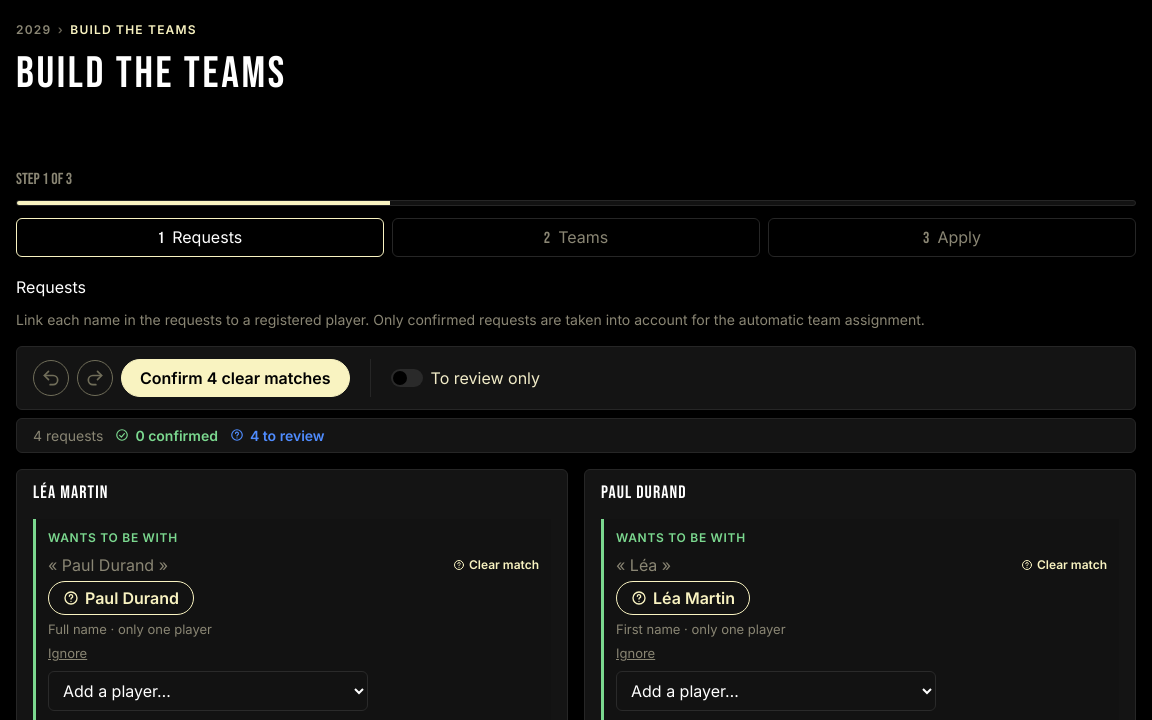
Test: team builder page › opens a player sheet from the eye button and gives focus back on close
Click the button "2 Teams".
click(576, 238)  # box [392,218,760,257]
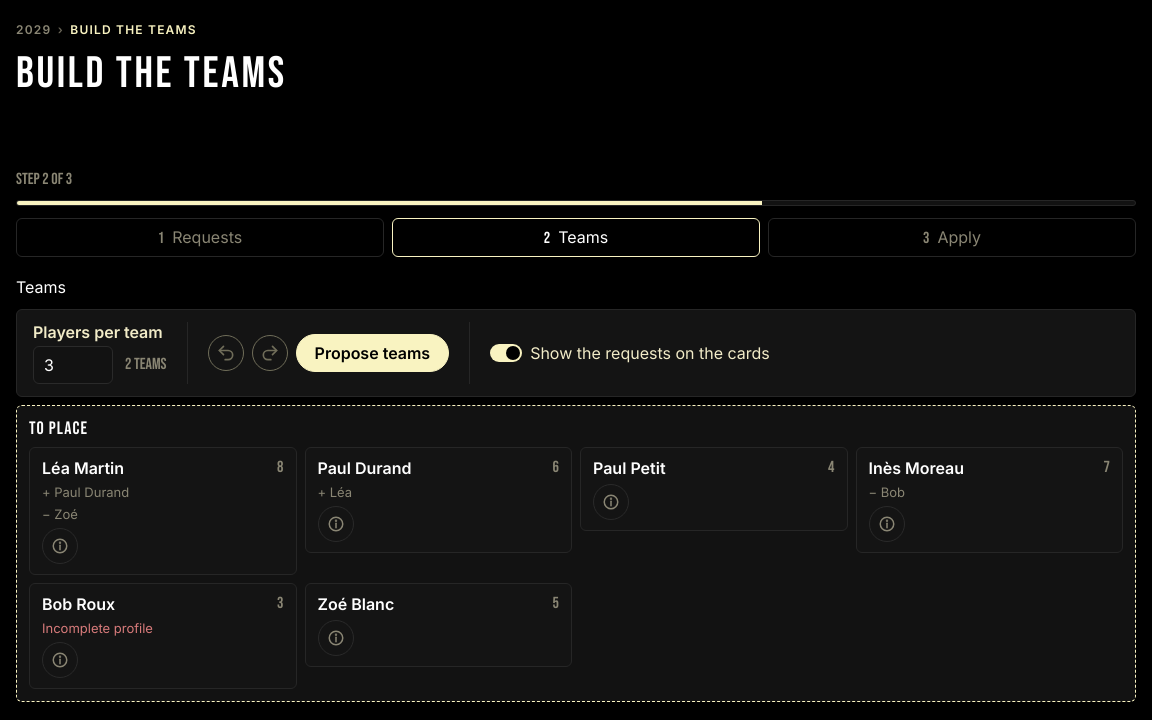
Click the button named "View Léa Martin profile".
click(60, 546)  # box [42,528,78,564]
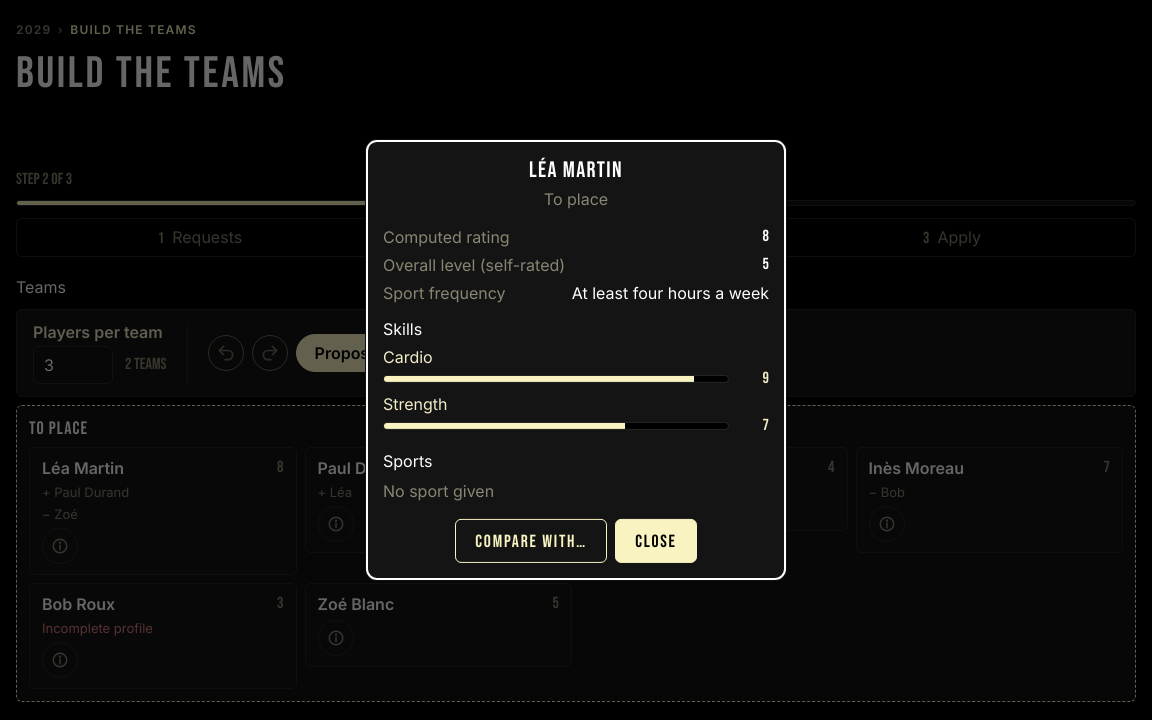
Check: the text "To place" is shown, box [544,189,608,209]
Check: the text "Cardio" is shown, box [383,347,433,367]
Click the button "Close".
click(656, 541)  # box [615,519,697,563]
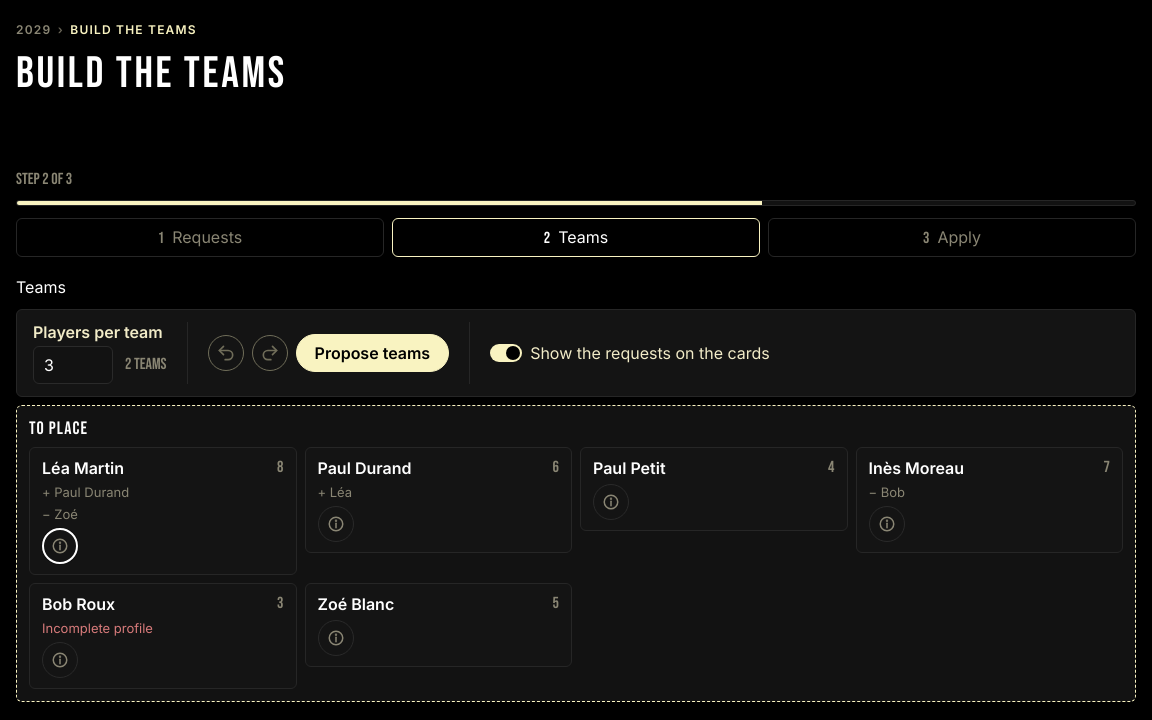
Check: the dialog is gone
